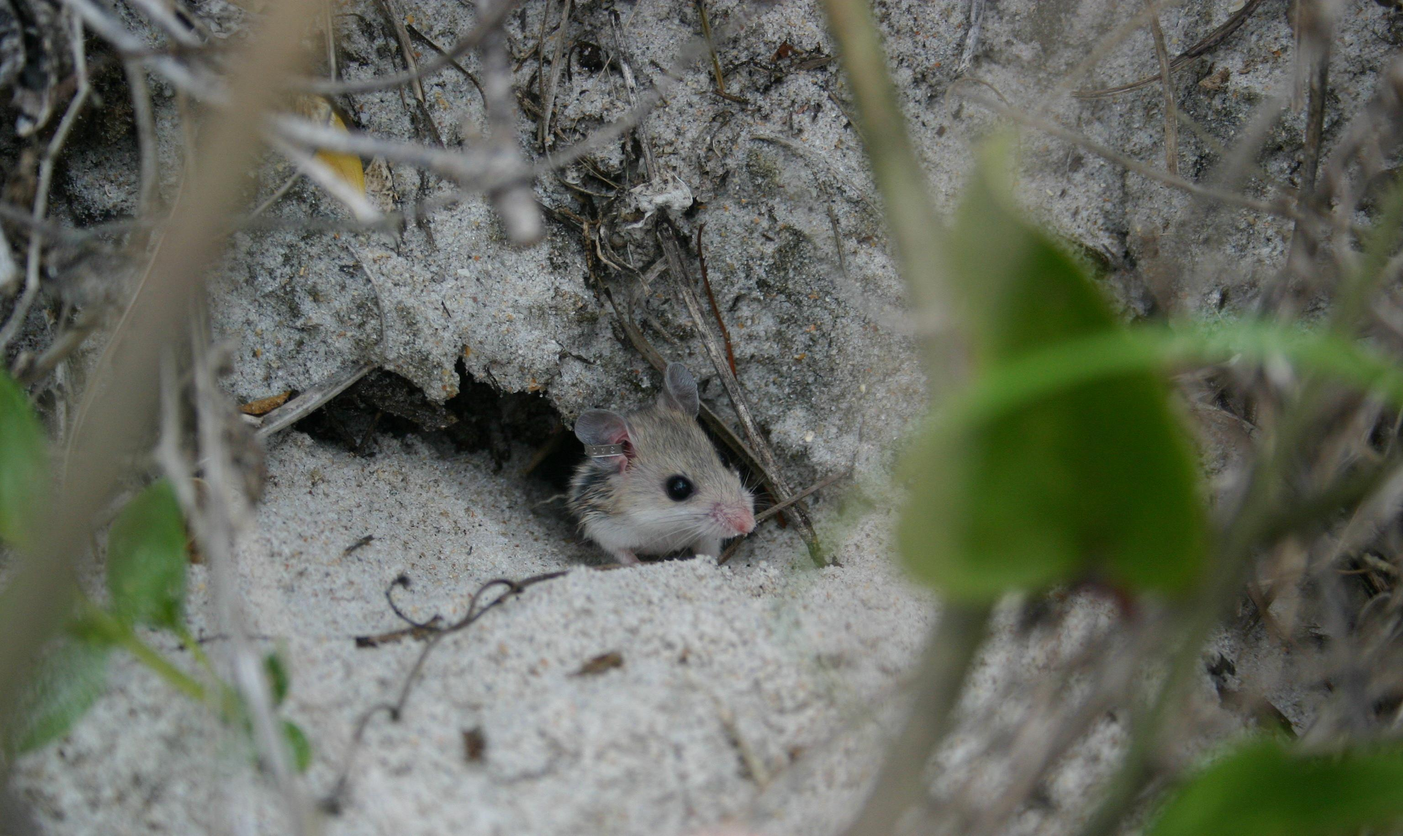rat: (570, 363, 757, 566)
